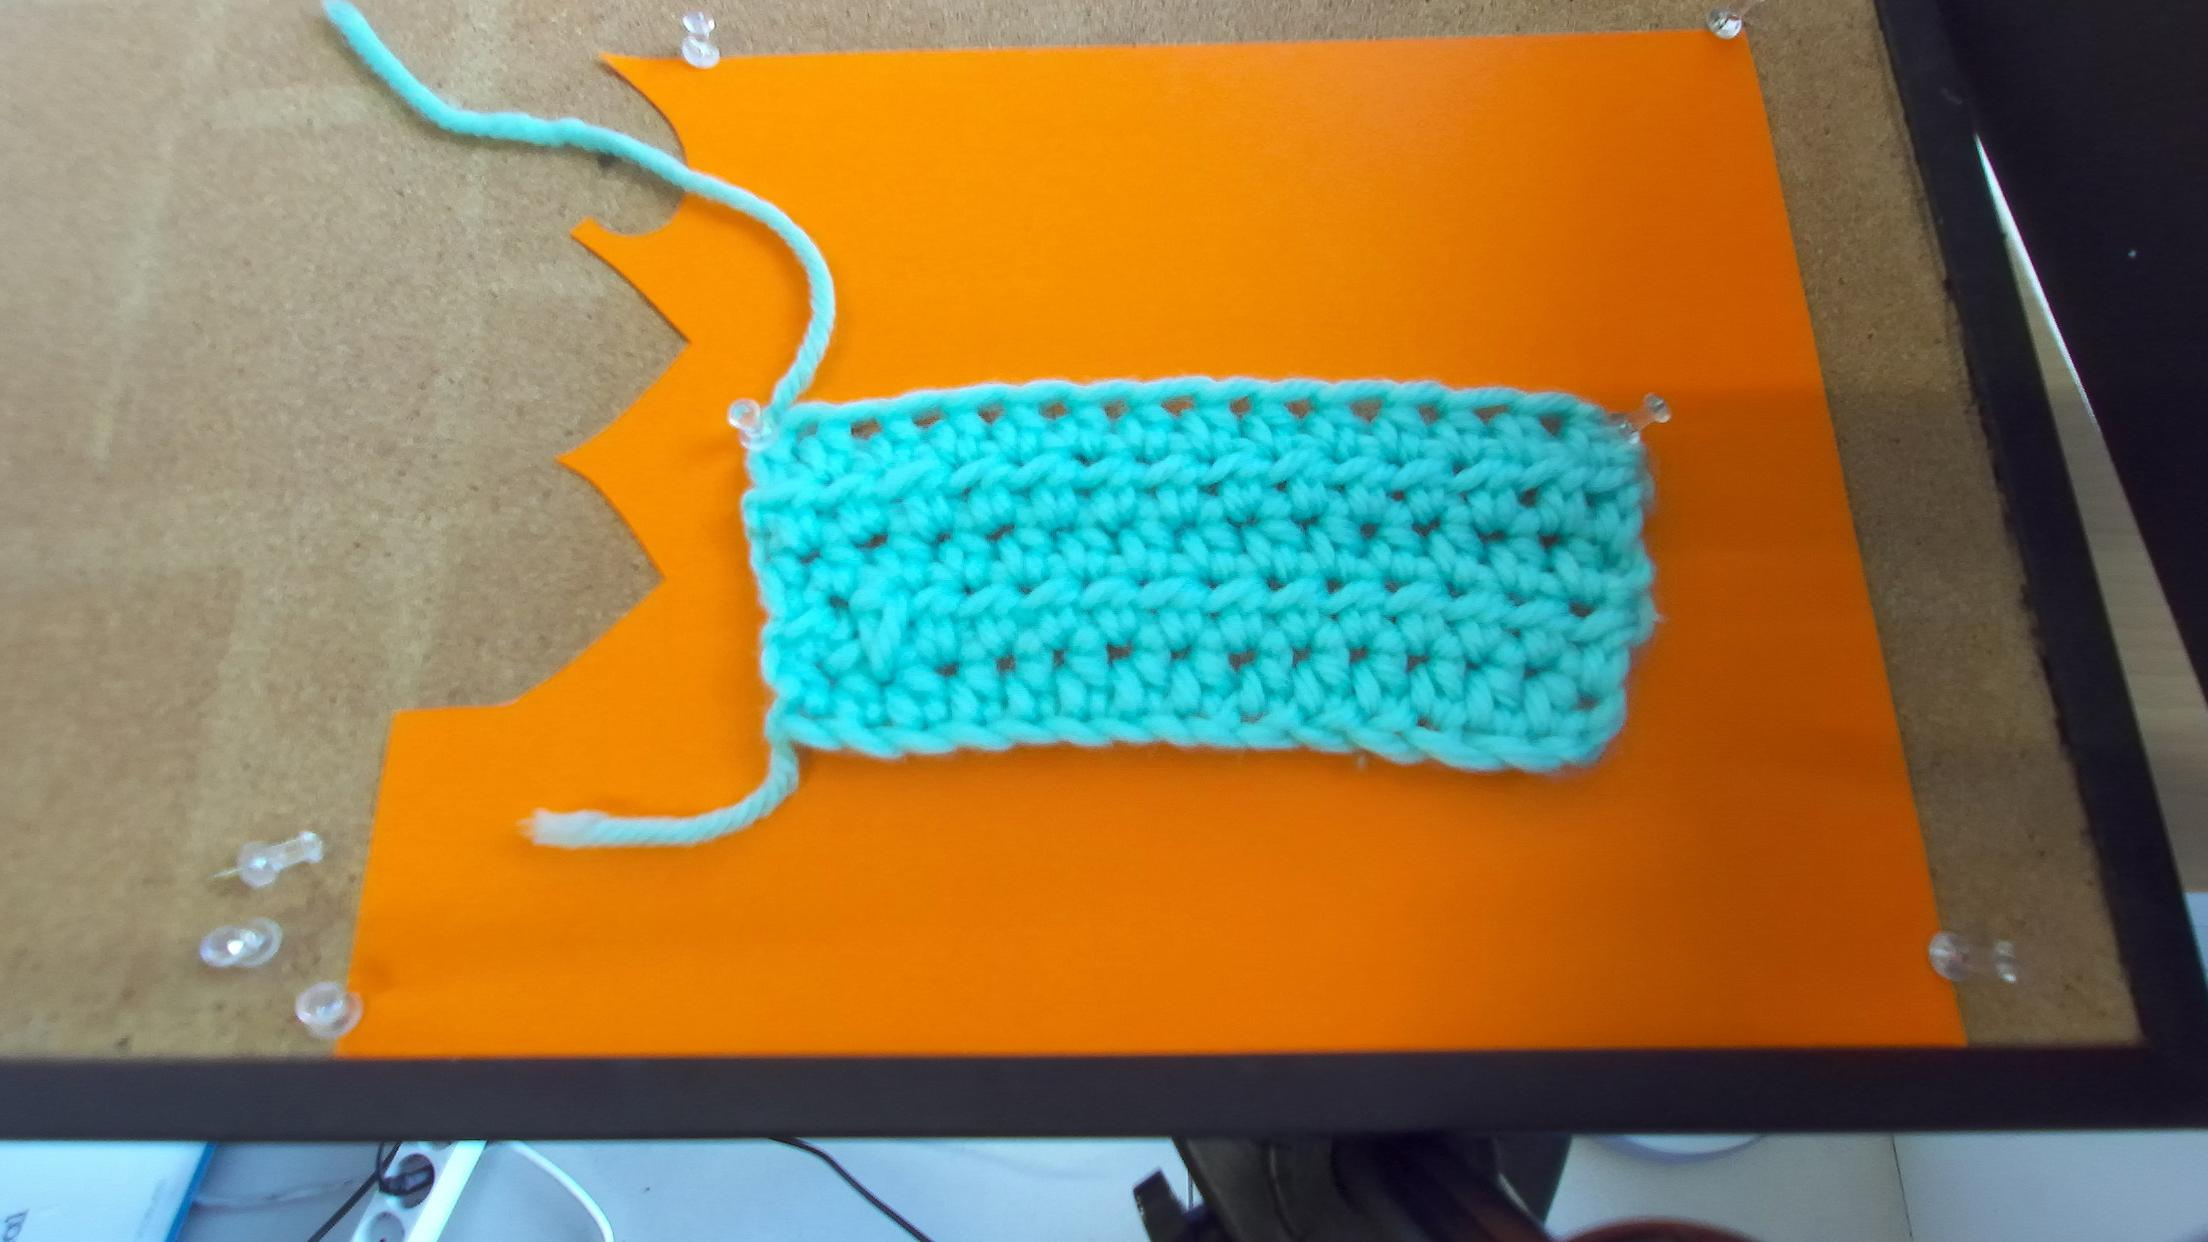hole: (1159, 393, 1195, 419), (1473, 405, 1510, 428), (1350, 396, 1383, 422), (1535, 412, 1567, 438), (1283, 397, 1315, 420), (849, 417, 880, 440), (908, 409, 940, 431), (793, 420, 819, 446), (1413, 402, 1441, 426), (1040, 399, 1071, 420), (974, 403, 1005, 423), (1102, 399, 1128, 423), (1230, 394, 1254, 417)
swatch: (740, 384, 1664, 778)
